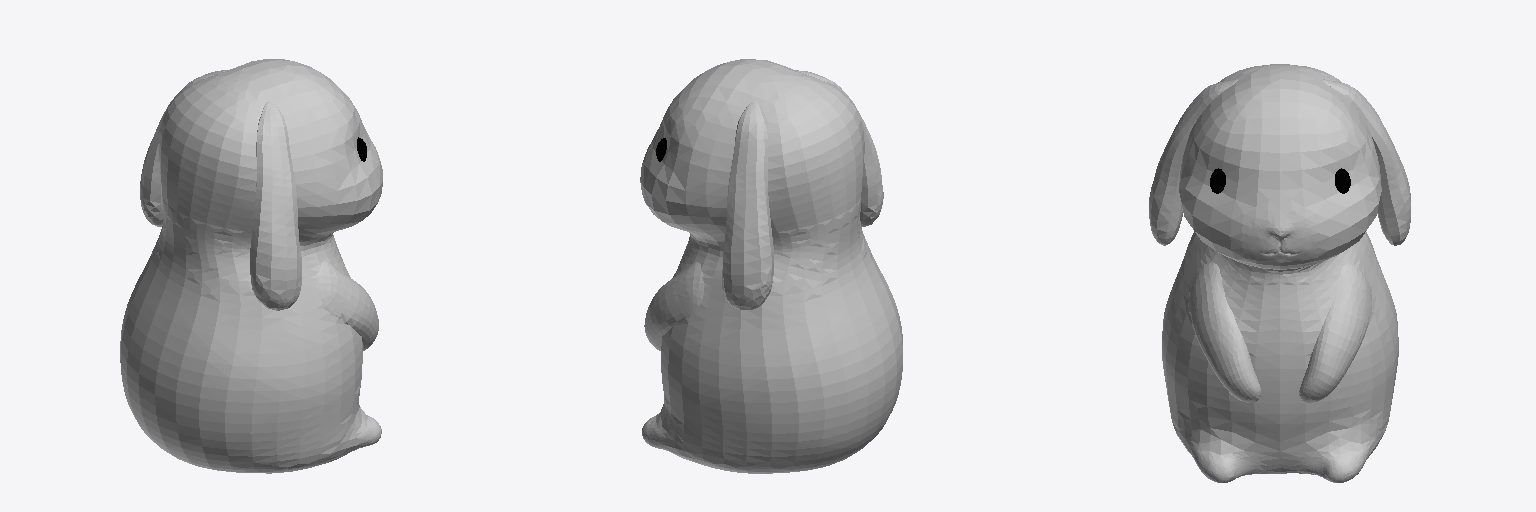
The model's file is rabbitPlayer.obj.
The picture shows the model from 3 angles: view 1: azimuth 30°, elevation 25°; view 2: azimuth 150°, elevation 25°; view 3: azimuth 270°, elevation 25°; orthographic projection.
Parts seen in each view (by area): view 1: Bunnychan; view 2: Bunnychan; view 3: Bunnychan.
Boxes of the visible parts, <box> form: Bunnychan: <box>120,59,382,473</box>; Bunnychan: <box>640,59,902,473</box>; Bunnychan: <box>1149,64,1410,482</box>.
Size of the model in its own units: 1.56 by 2.34 by 1.52.